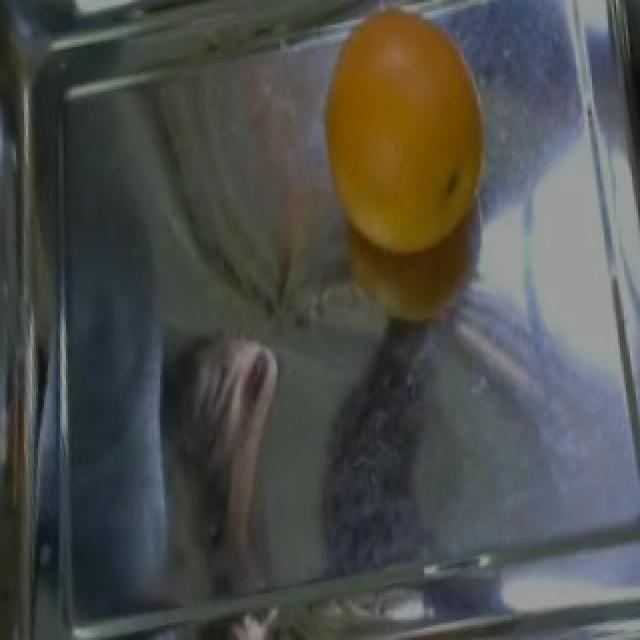Fruit: (312, 0, 498, 288)
